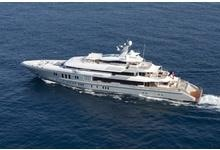yacht: (13, 40, 202, 107)
